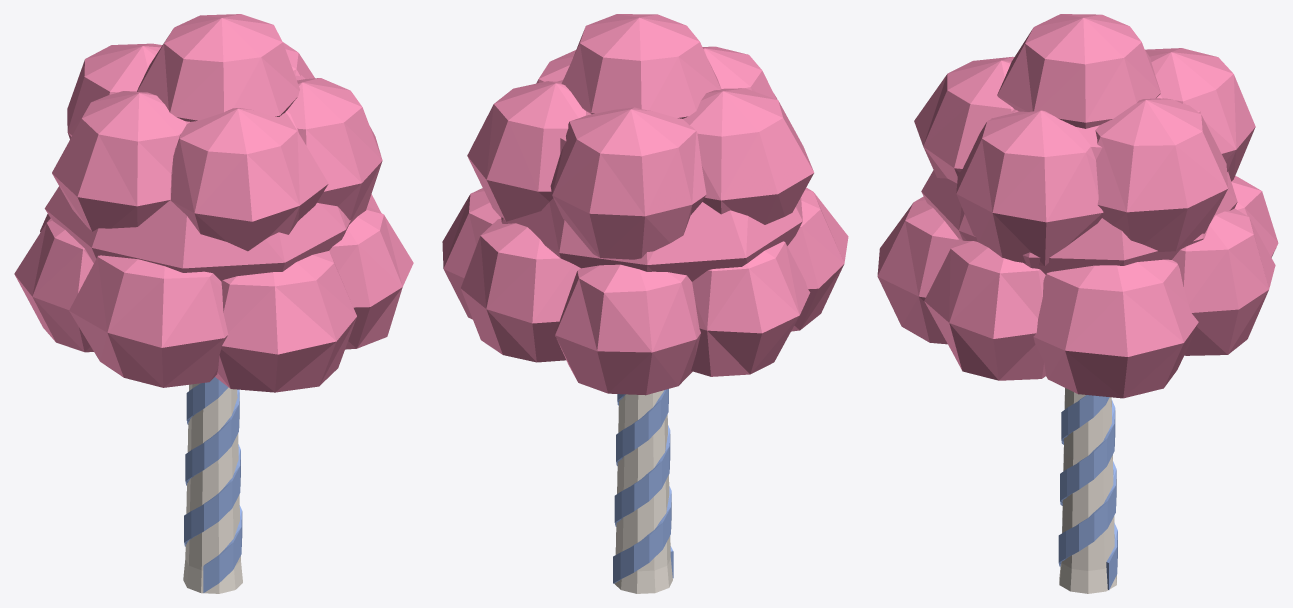
Rendered from CV3_TreeCotton.fbx.
3 views of the same model, side by side, from view 1: azimuth 30°, elevation 25°; view 2: azimuth 150°, elevation 25°; view 3: azimuth 270°, elevation 25° (orthographic).
Visible parts, largest first — view 1: CV3_TreeCotton_Crown, CV3_TreeCotton_Trunk, CV3_TreeCotton_Stripe; view 2: CV3_TreeCotton_Crown, CV3_TreeCotton_Trunk, CV3_TreeCotton_Stripe; view 3: CV3_TreeCotton_Crown, CV3_TreeCotton_Trunk, CV3_TreeCotton_Stripe.
Part boxes in pixels (<box>): CV3_TreeCotton_Crown: <box>14,14,413,392</box>; CV3_TreeCotton_Trunk: <box>183,383,242,593</box>; CV3_TreeCotton_Stripe: <box>184,377,242,592</box>; CV3_TreeCotton_Crown: <box>442,14,848,395</box>; CV3_TreeCotton_Trunk: <box>614,390,672,593</box>; CV3_TreeCotton_Stripe: <box>613,389,673,583</box>; CV3_TreeCotton_Crown: <box>877,14,1278,398</box>; CV3_TreeCotton_Trunk: <box>1059,388,1116,593</box>; CV3_TreeCotton_Stripe: <box>1058,395,1117,589</box>.
Size of the model in its own units: 16.82 by 25.8 by 16.55.
